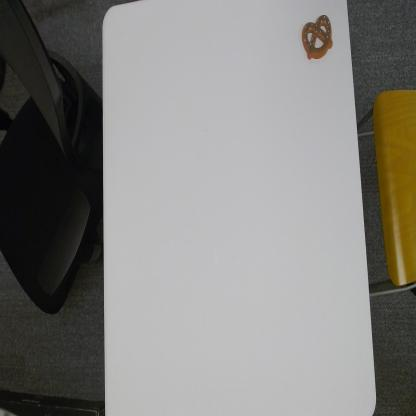Pretzel: (299, 10, 335, 61)
